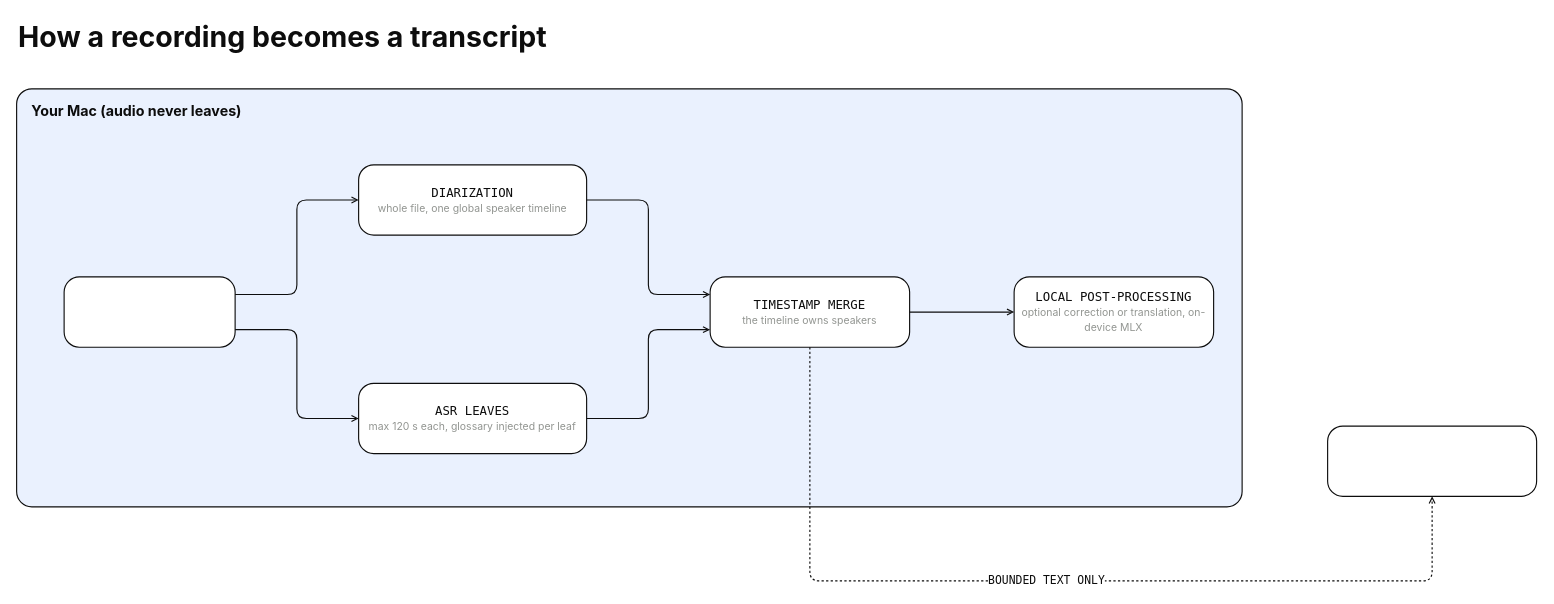
This 1554x604 diagram has some shape labels left out. The shapes that lost their labels are listed below. From the top down, each one's centre as x and y in pixels, then its label:
point 149,311: CAPTURE mic + system audio
point 1432,460: CODEX LANE opt-in, text only, your subscription
